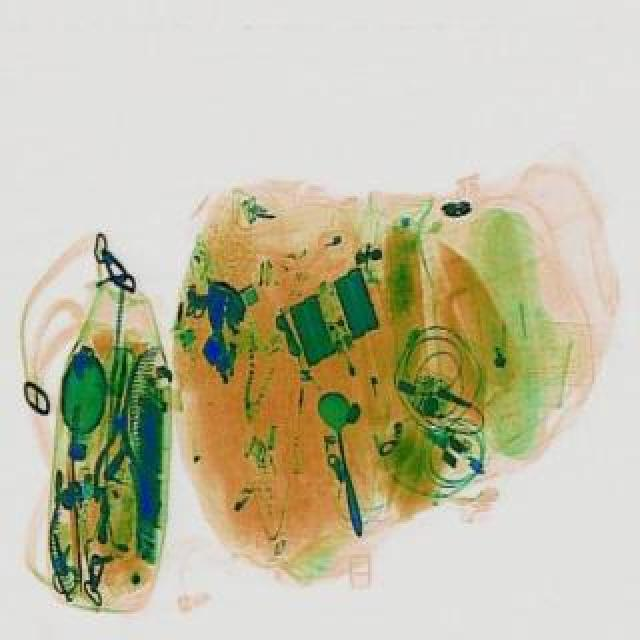wrench: (88, 350, 158, 518)
